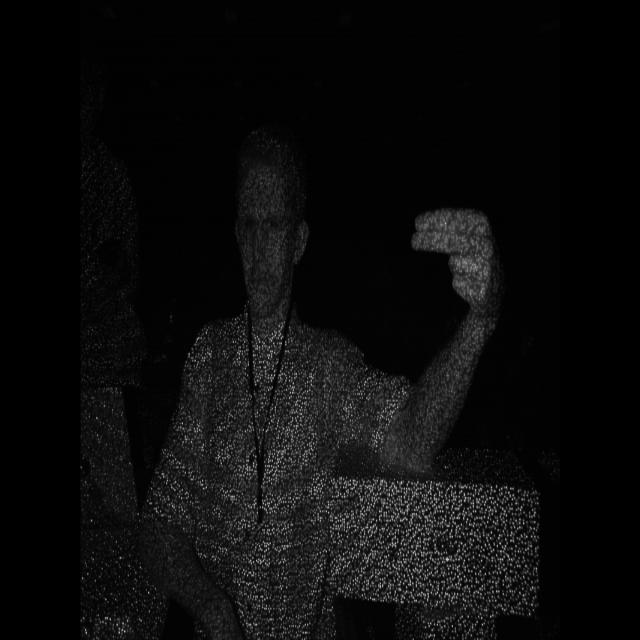H: (406, 195, 502, 311)
